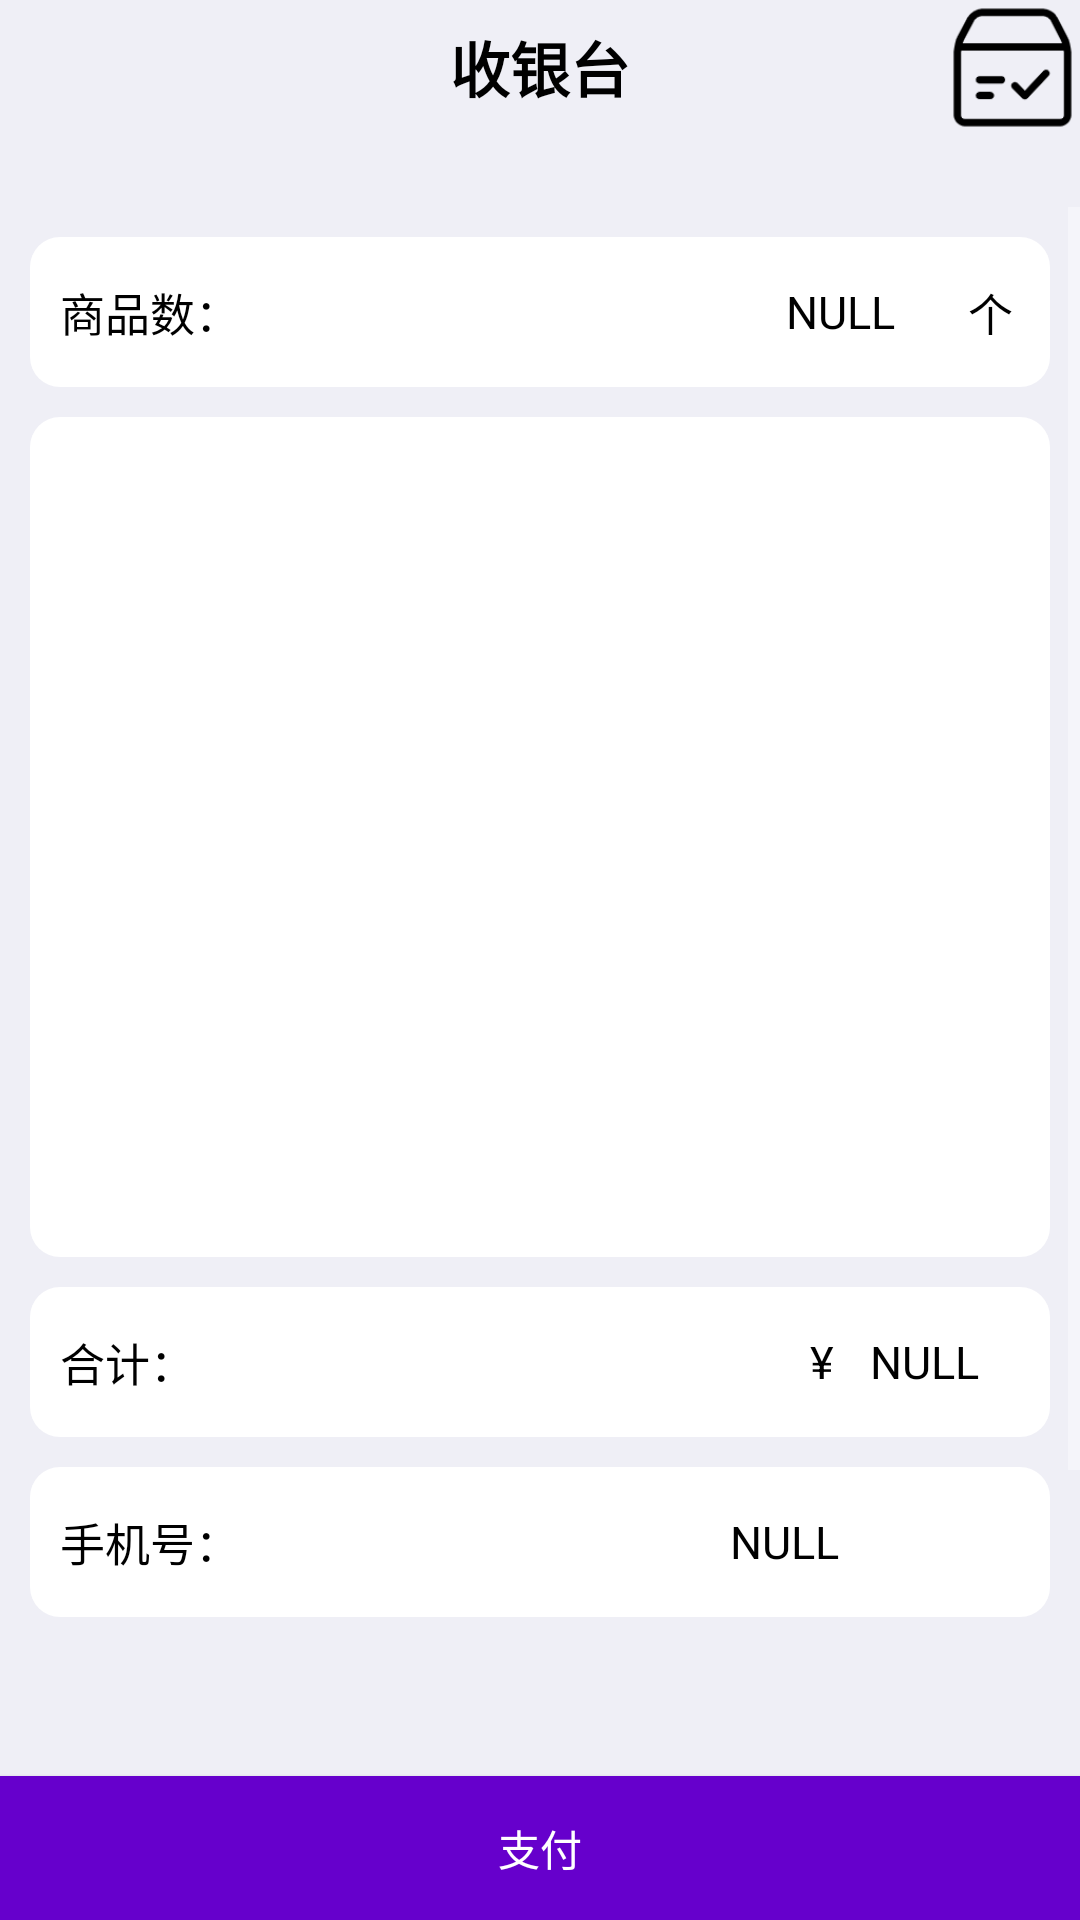

Screen size 1080x1920. Icon name, then its center in pixels as point (x, y):
shouhuo: point (1012, 67)
